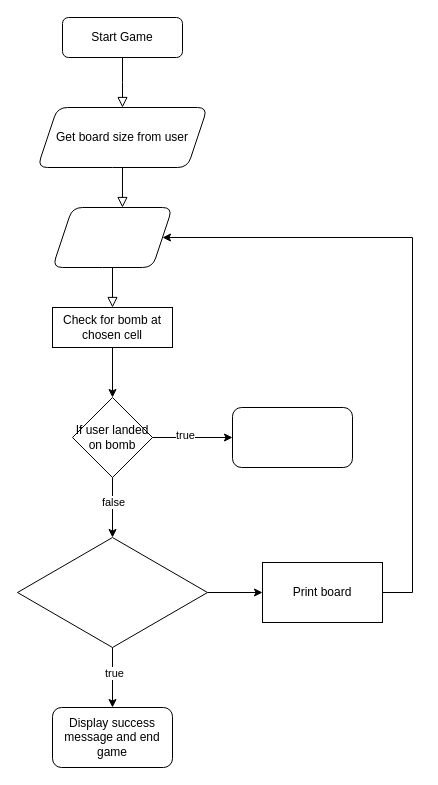
Image size: 438x785. Some labels were removed from this diagram. The box of each missing label's shape, as (x1, y1, x2, y2) in pixels:
Ask user for row/column: (52, 206, 172, 268)
Check if all bombs have been revealed: (16, 536, 208, 648)
Display Failure Message and End Game: (232, 406, 352, 468)
